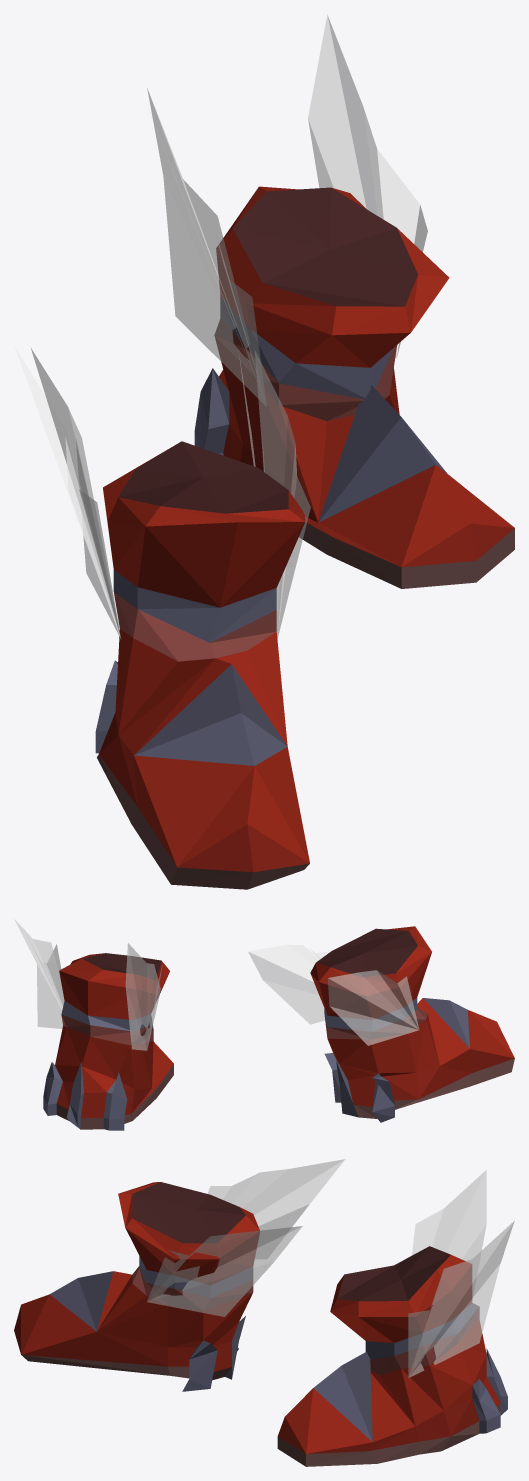
File: player_primordial_boots.glb
3 views of the same model, one above another, from view 1: azimuth 30°, elevation 25°; view 2: azimuth 150°, elevation 25°; view 3: azimuth 270°, elevation 25° (orthographic). The views are drawn at different scales.
Bounding box in the file's own units: 54.75 × 41.44 × 70.49.
Materials: 2 (2 with a texture image).
